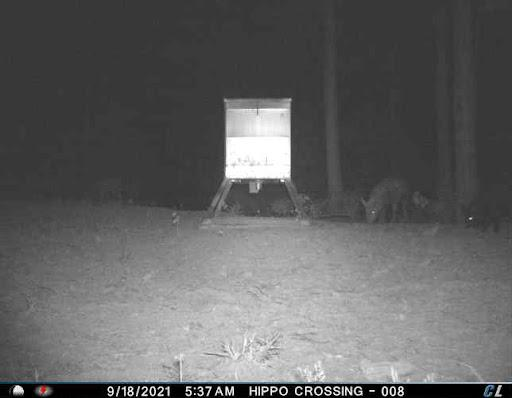Hog: (358, 170, 418, 226), (458, 187, 512, 234)
